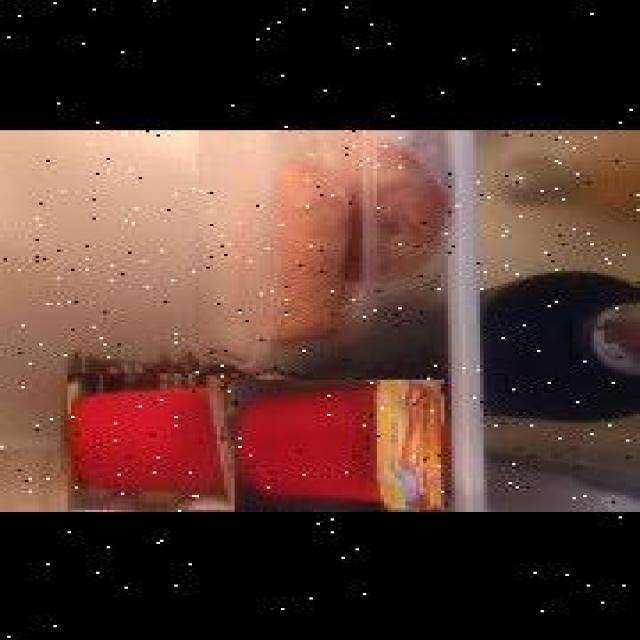yogurt: (235, 378, 444, 512), (68, 371, 238, 508)
